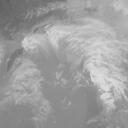cyclone: (40, 29, 100, 81)
